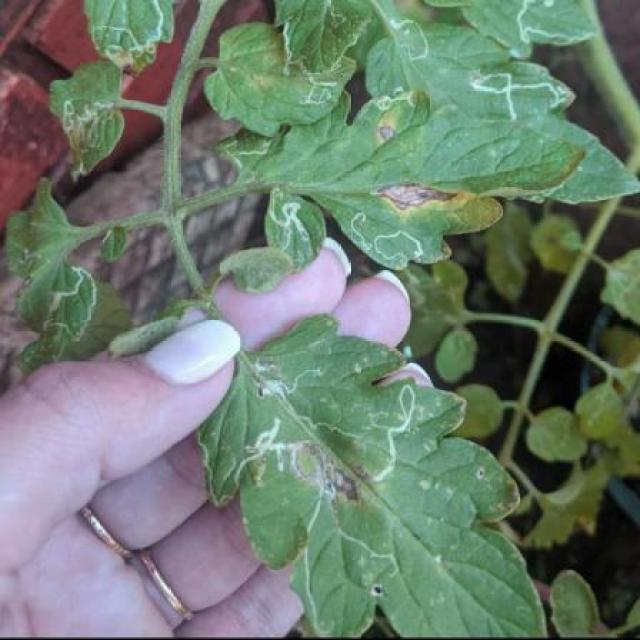Leaf Miner: (201, 314, 549, 639), (264, 189, 326, 275)
